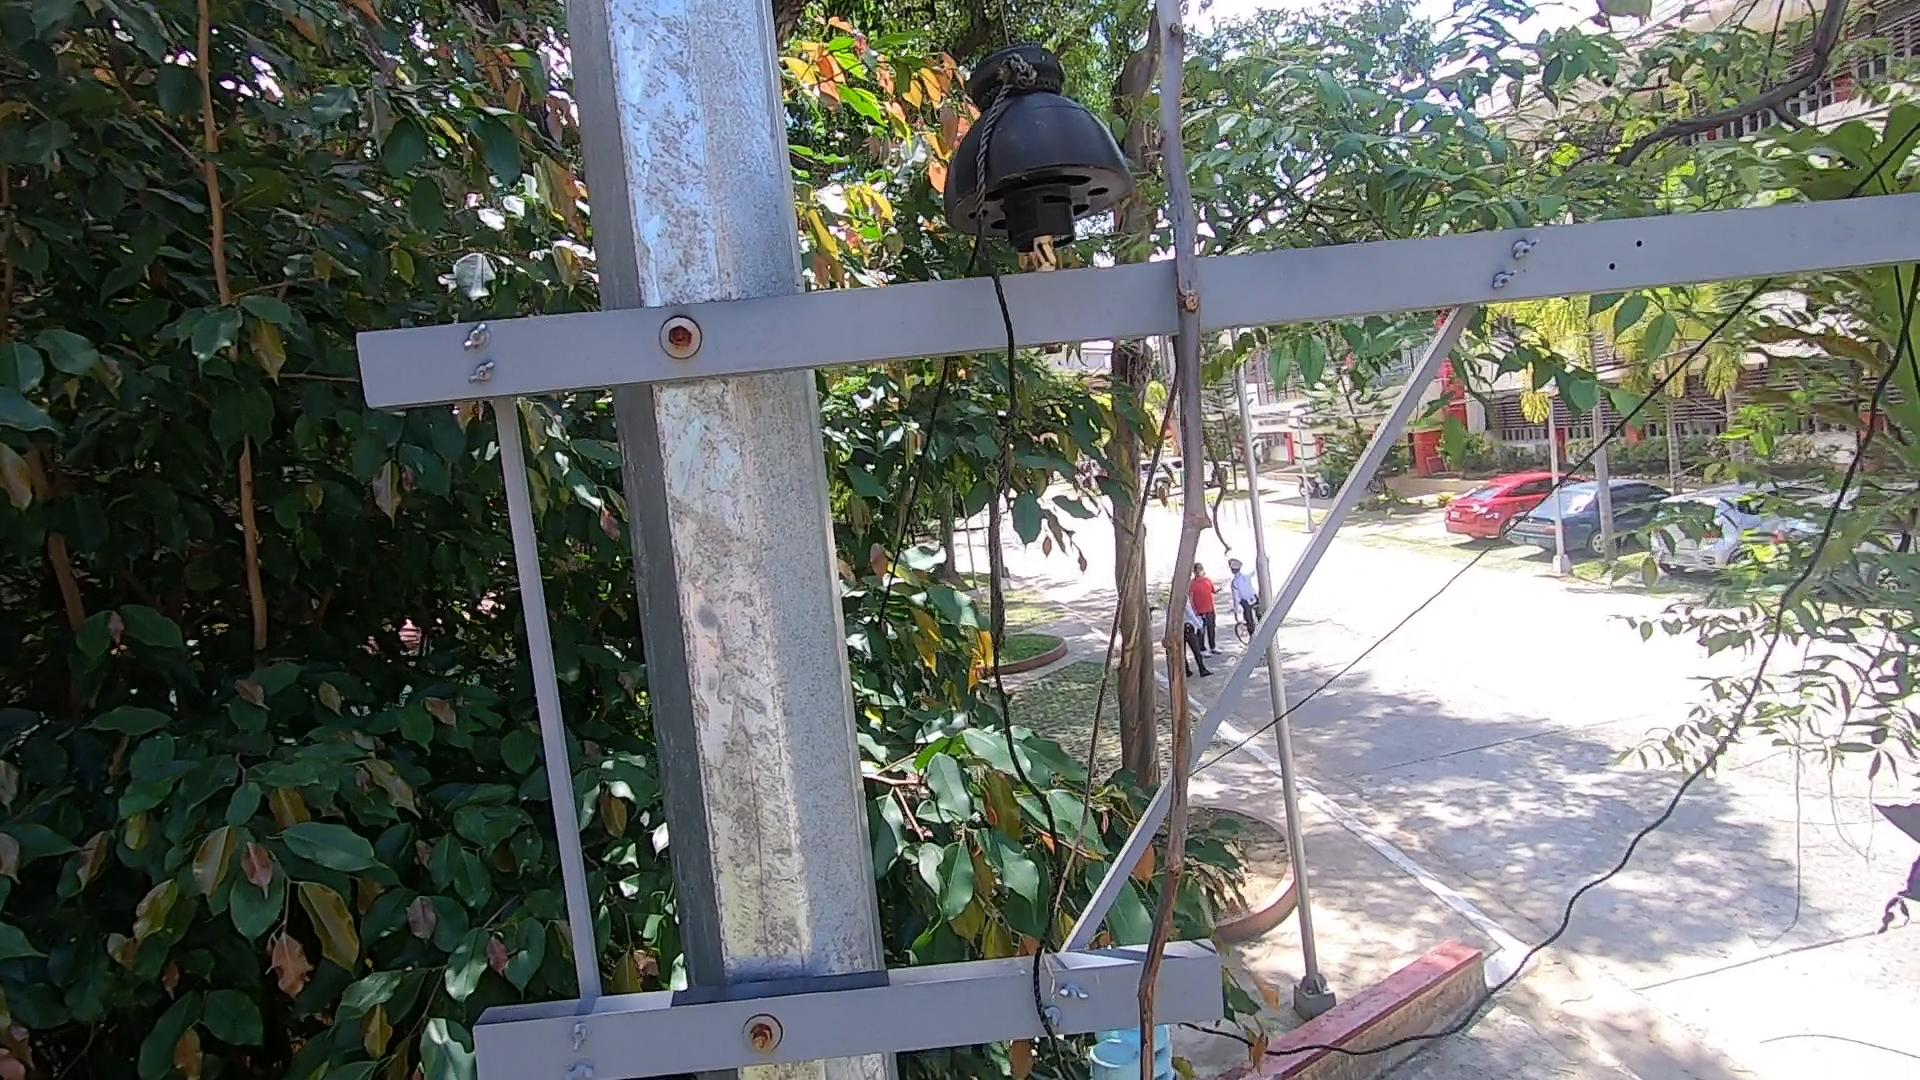tree branch: (1035, 36, 1273, 1080)
